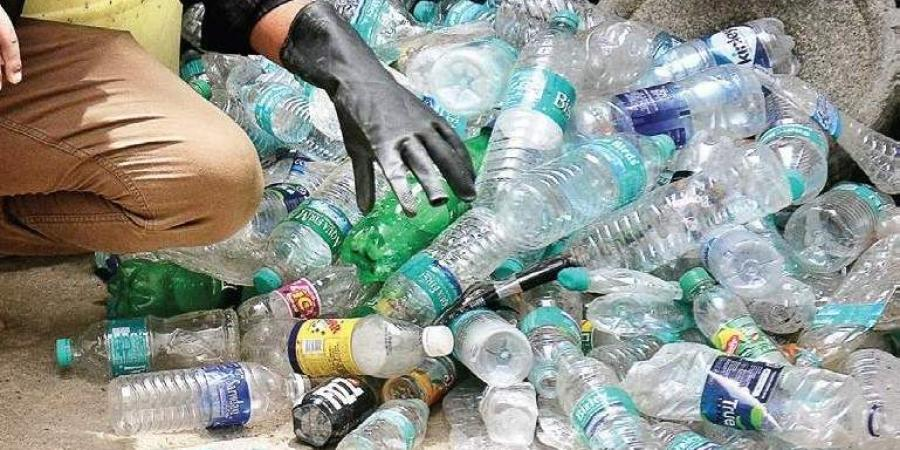plastic_bottle: (244, 124, 589, 356), (401, 150, 855, 297), (160, 13, 457, 230), (286, 1, 614, 197), (576, 16, 867, 235), (63, 249, 480, 398), (515, 177, 850, 323), (638, 206, 843, 431), (572, 1, 737, 279), (181, 271, 528, 402), (364, 8, 519, 263), (28, 231, 285, 380), (575, 245, 749, 450), (712, 43, 900, 209), (489, 190, 618, 418), (86, 350, 375, 449), (622, 5, 853, 112), (528, 310, 702, 450), (191, 262, 484, 345), (228, 295, 541, 369), (760, 158, 899, 310), (423, 274, 556, 393), (444, 365, 580, 450), (296, 388, 463, 450)
